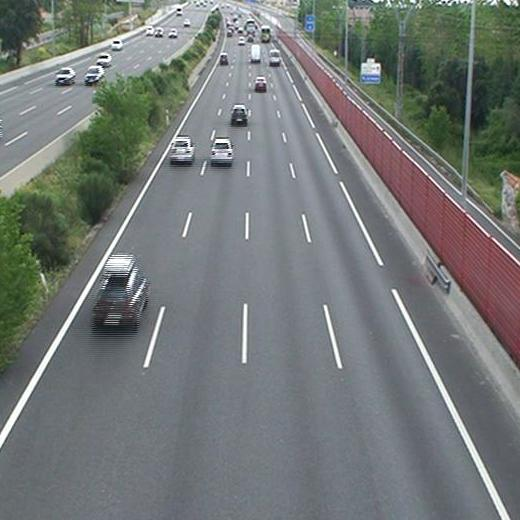car: (93, 271, 145, 323), (171, 138, 193, 161), (211, 140, 232, 163), (232, 106, 248, 124), (254, 77, 267, 90), (219, 53, 229, 64)
van: (250, 44, 261, 61), (269, 50, 280, 65)
